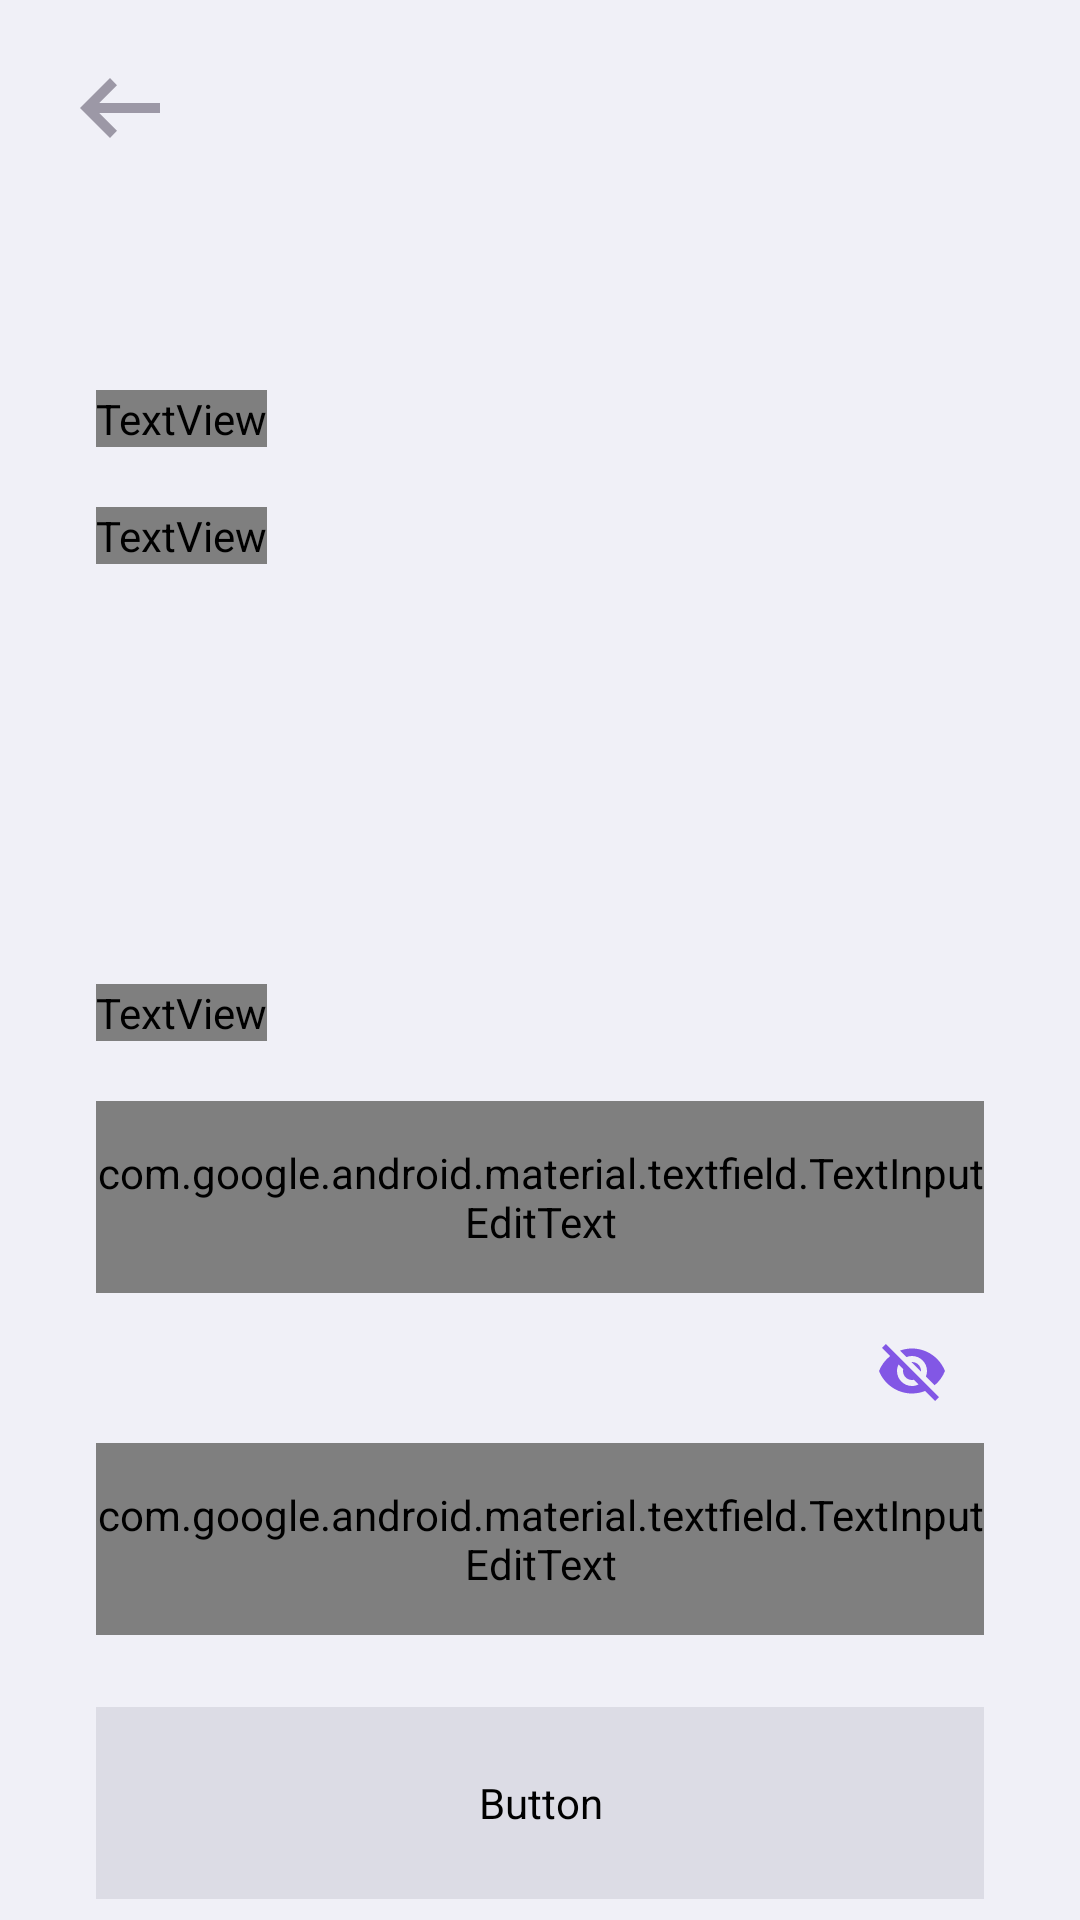

Icon bounding boxes for this 1080px x 1920px phone screenshot, format (left=x1, top=y1, right=x2, bottom=y2):
arrow left: (left=80, top=78, right=160, bottom=138)
